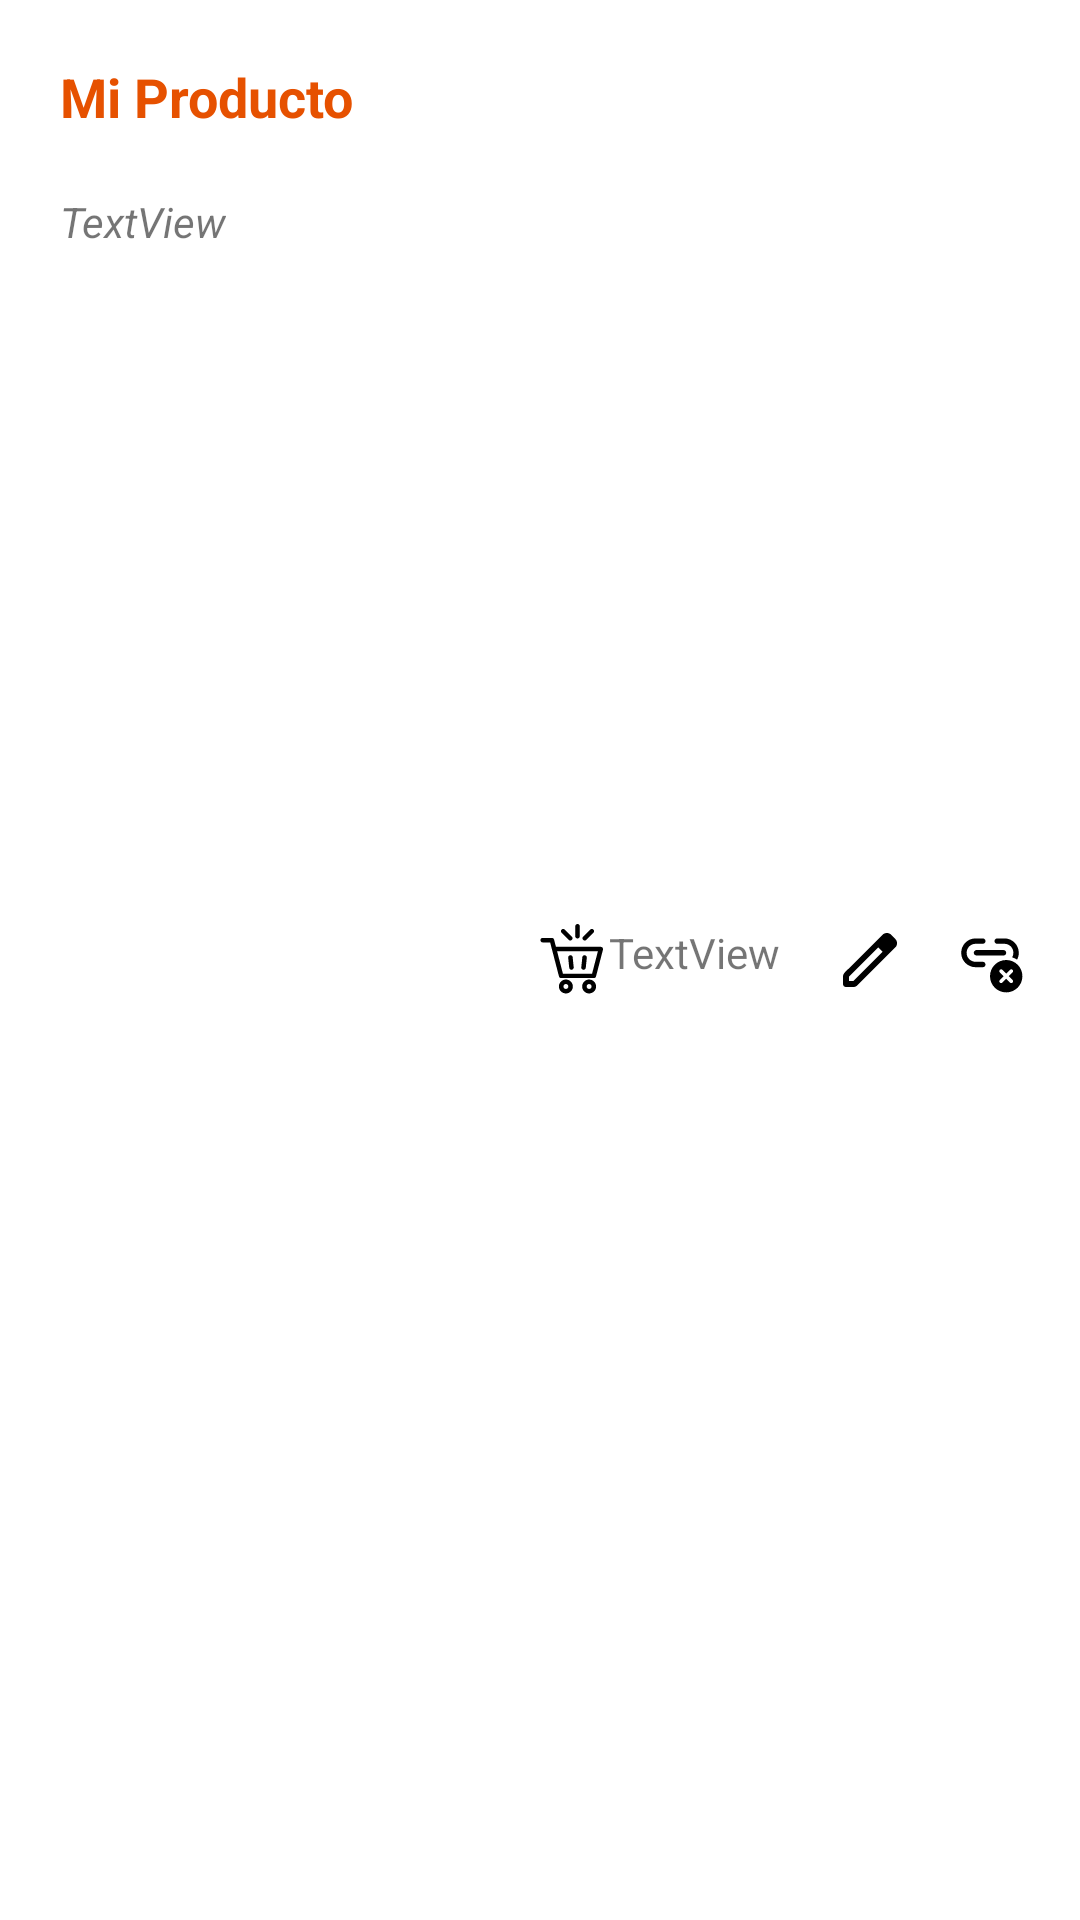

Locate icon controls on the screen. Image size 1080x1920, boxes as Rect(x1, y1, x2, y2).
edit: Rect(843, 933, 897, 987)
unlink: Rect(961, 938, 1023, 993)
